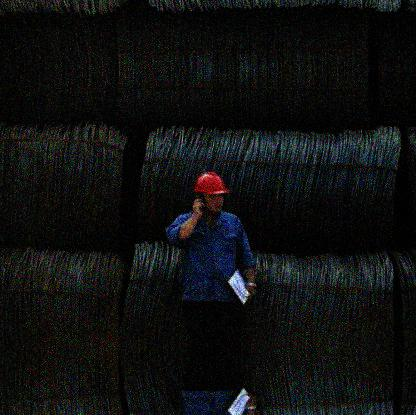helmet: (188, 171, 231, 218)
